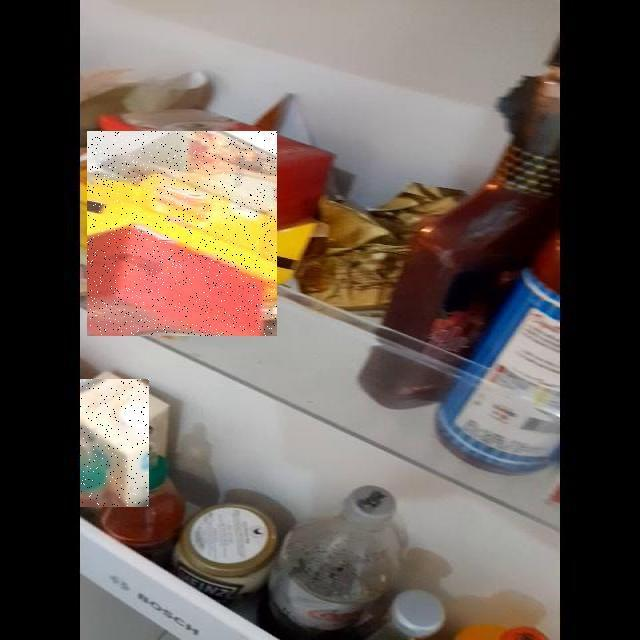milk: (5, 254, 154, 640)
